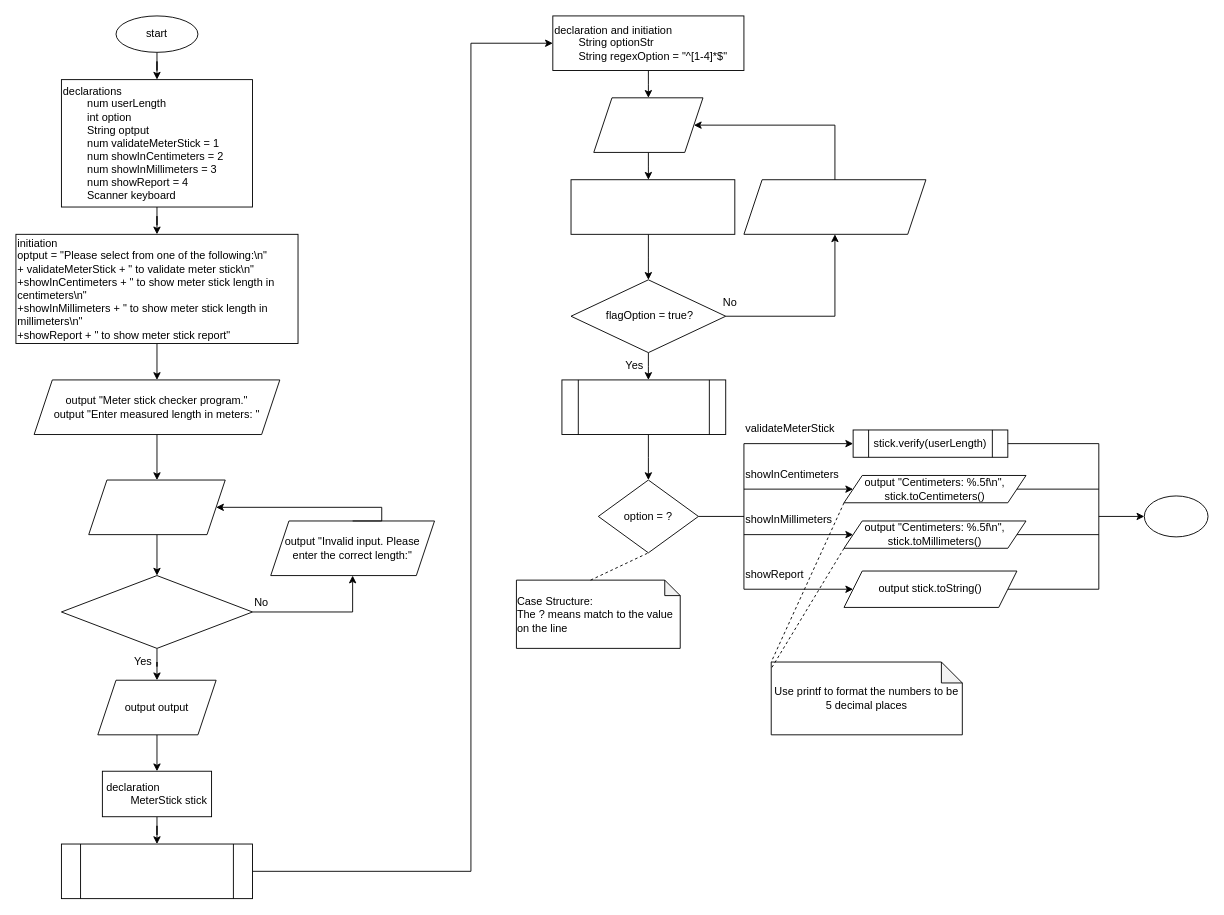
Some shapes in this 1224 by 915 pixel diagram are drawn without their labels. Each missing label, with the centre of its shape:
boolean flagOption = optionStr.matches(regexOption): (x=652, y=206)
end: (x=1175, y=516)
input optionStr: (x=648, y=124)
input userLength: (x=156, y=507)
option = Integer. parseInt(optionStr): (x=643, y=407)
output "Invalid menu option selected.Please enter the correct option again:": (x=834, y=206)
stick.setLength(userLength): (x=157, y=871)
userLength is a positive number?: (x=157, y=611)
